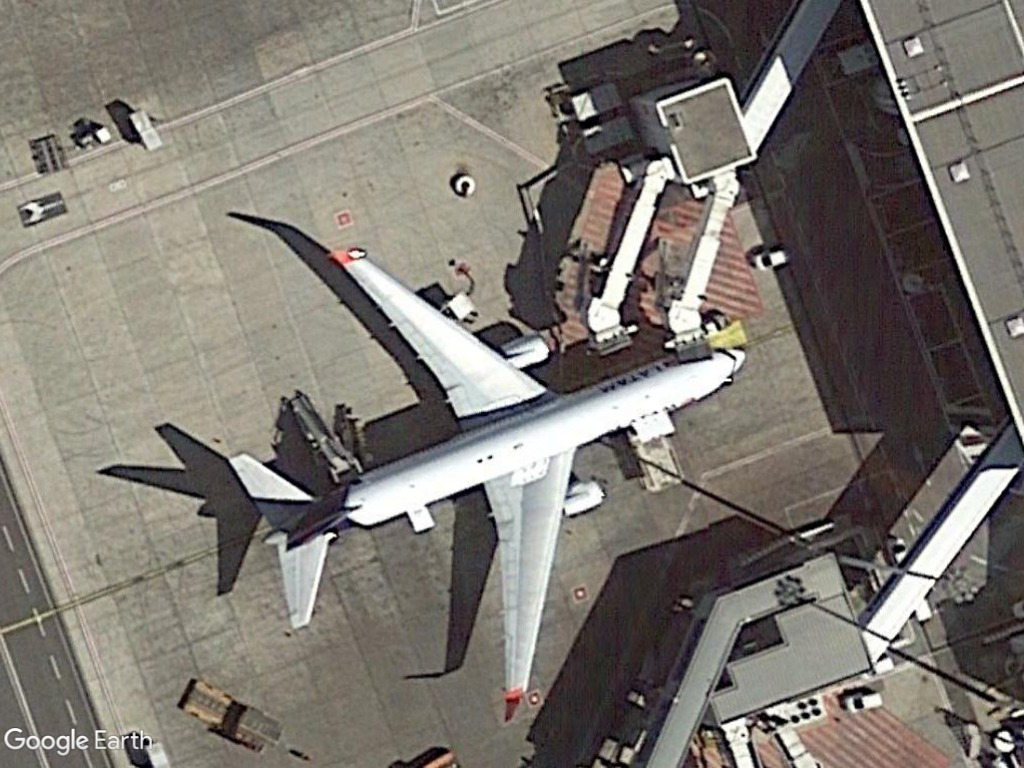airliner: (218, 239, 750, 724)
stairtruck: (278, 390, 365, 479)
van: (750, 242, 792, 275), (839, 686, 885, 716)
